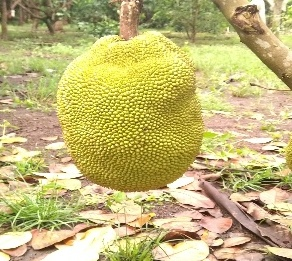Mit: (57, 34, 201, 181)
